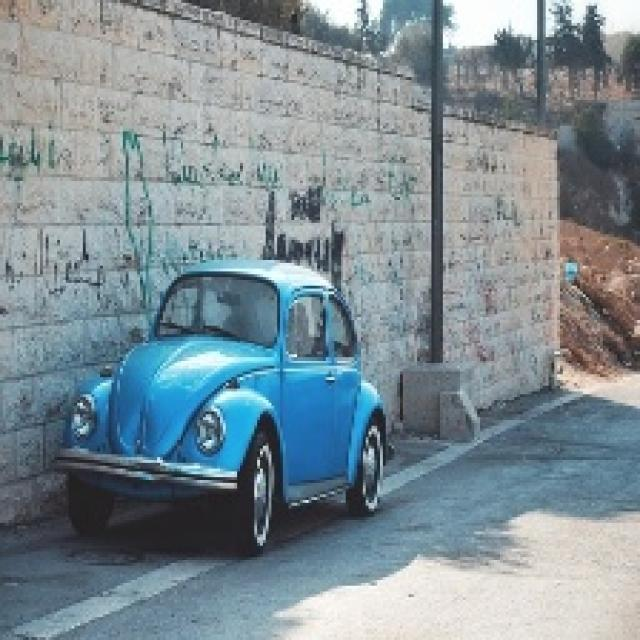car: (56, 250, 385, 531)
